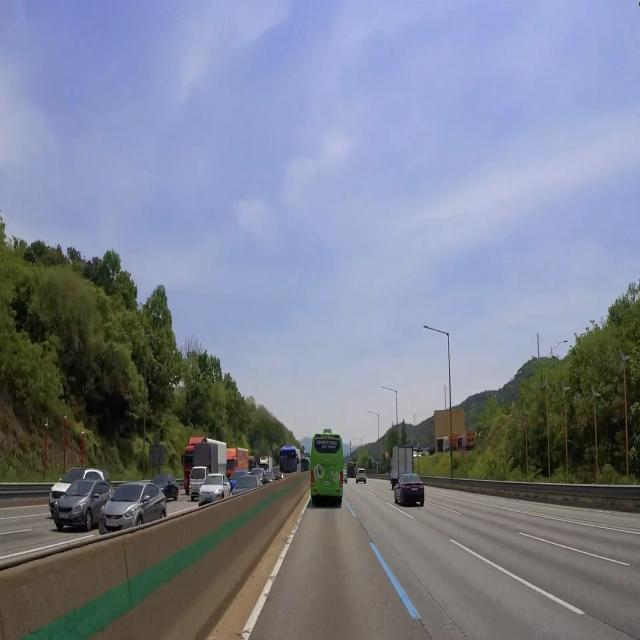car: (105, 515, 121, 531), (60, 511, 72, 526), (321, 478, 333, 492), (409, 485, 421, 495)
